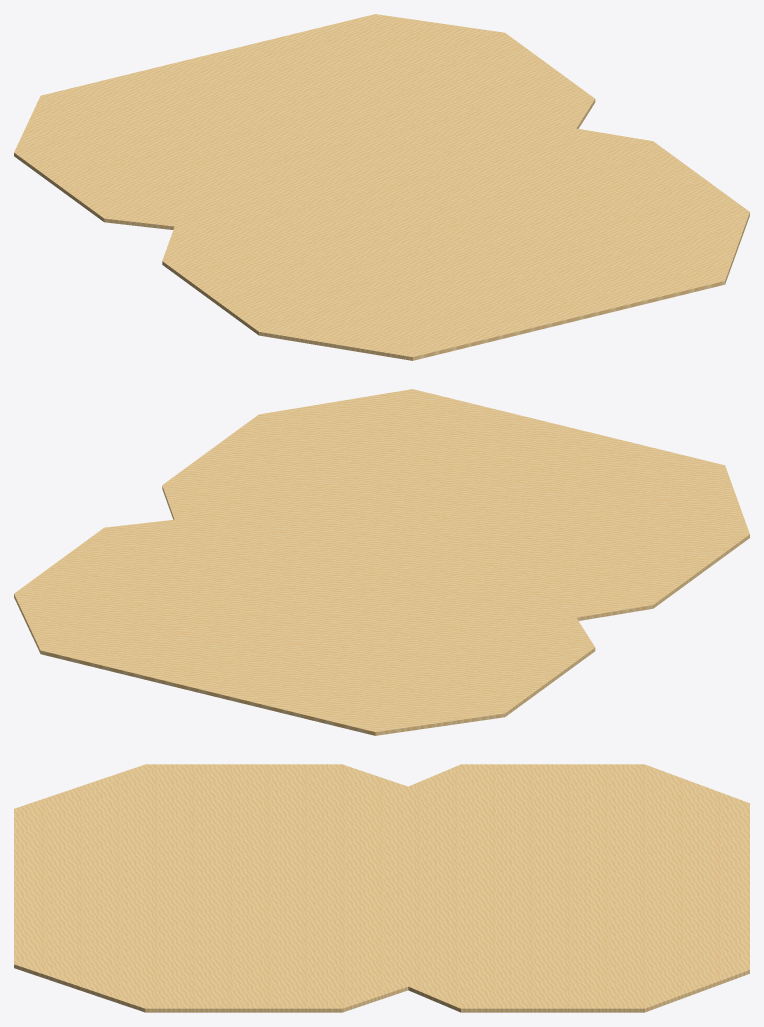
Rendered from seabed-30-Dpz97zMr.glb.
The picture shows the model from 3 angles, top to bottom: view 1: azimuth 30°, elevation 25°; view 2: azimuth 150°, elevation 25°; view 3: azimuth 270°, elevation 25°; orthographic projection.
Parts seen in each view (by area): view 1: SW_SandShelf; view 2: SW_SandShelf; view 3: SW_SandShelf.
Boxes of the visible parts, box(x1,y1,x2,y2) form: SW_SandShelf: box(14, 14, 749, 360); SW_SandShelf: box(14, 389, 749, 735); SW_SandShelf: box(14, 764, 749, 1012).
Size of what is drawn, in the model's own units: 44 by 0.32 by 56.
Materials: 1 (1 with a texture image).
